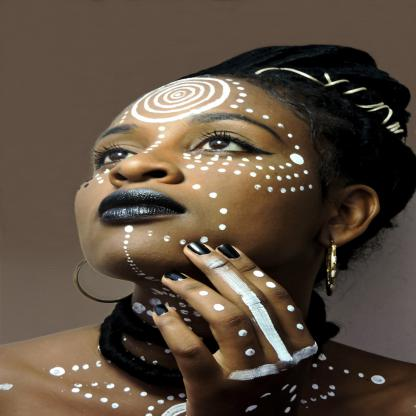Eye: (186, 130, 274, 157), (93, 143, 140, 170)
Mouth: (98, 188, 186, 222)
Nose: (107, 134, 185, 188)
